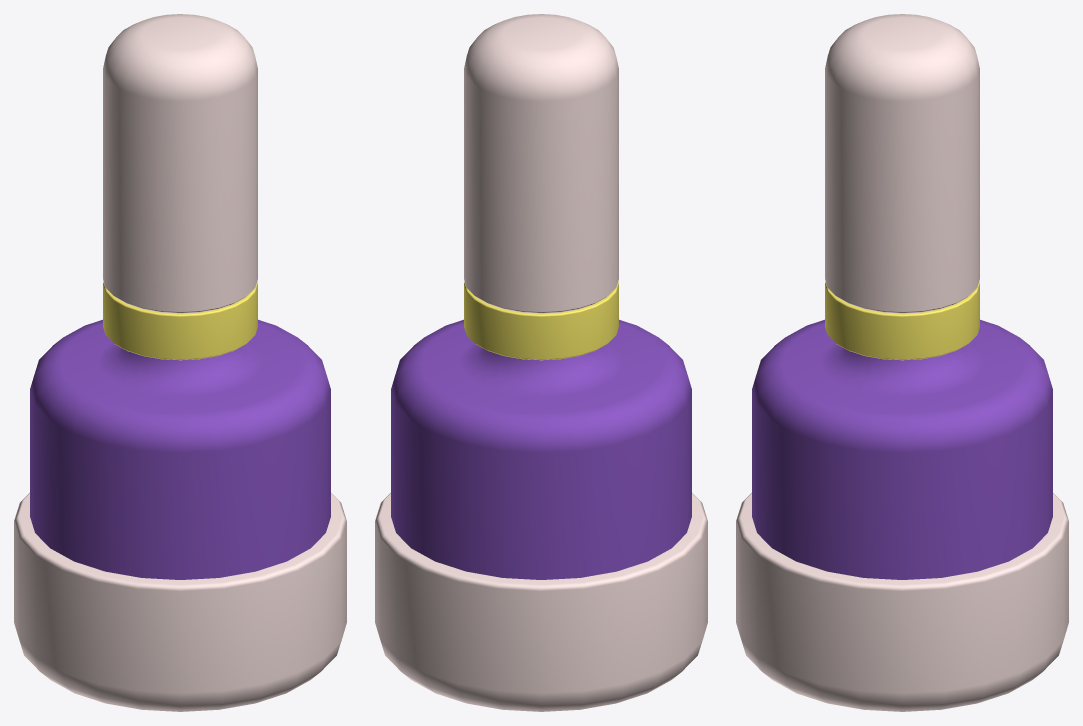
The model's file is Store_17_Nail_Varnish_2.glb.
3 renders of one model, left to right at view 1: azimuth 30°, elevation 25°; view 2: azimuth 150°, elevation 25°; view 3: azimuth 270°, elevation 25°, orthographic.
Parts seen in each view (by area): view 1: Store_17_Nail_Varnish_2; view 2: Store_17_Nail_Varnish_2; view 3: Store_17_Nail_Varnish_2.
Part boxes in pixels (left/top/right/bottom): Store_17_Nail_Varnish_2: left=14, top=14, right=346, bottom=711; Store_17_Nail_Varnish_2: left=375, top=14, right=707, bottom=711; Store_17_Nail_Varnish_2: left=736, top=14, right=1068, bottom=711.
Size of the model in its own units: 0.3261 by 0.6688 by 0.3261.
Materials: 1 (1 with a texture image).
